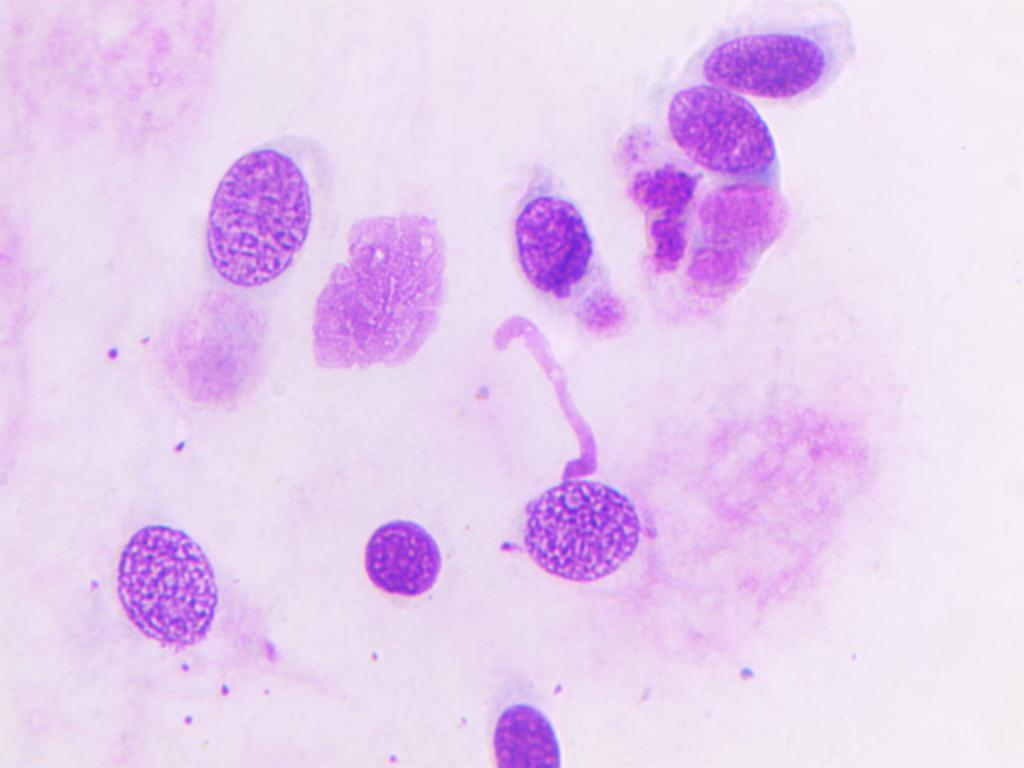artifact: (304, 199, 463, 381)
epithelial: (97, 527, 281, 689), (498, 462, 646, 603), (191, 120, 312, 290), (494, 156, 607, 302), (662, 12, 842, 94), (351, 506, 457, 632), (699, 179, 789, 302), (663, 86, 777, 179), (476, 680, 576, 768)
